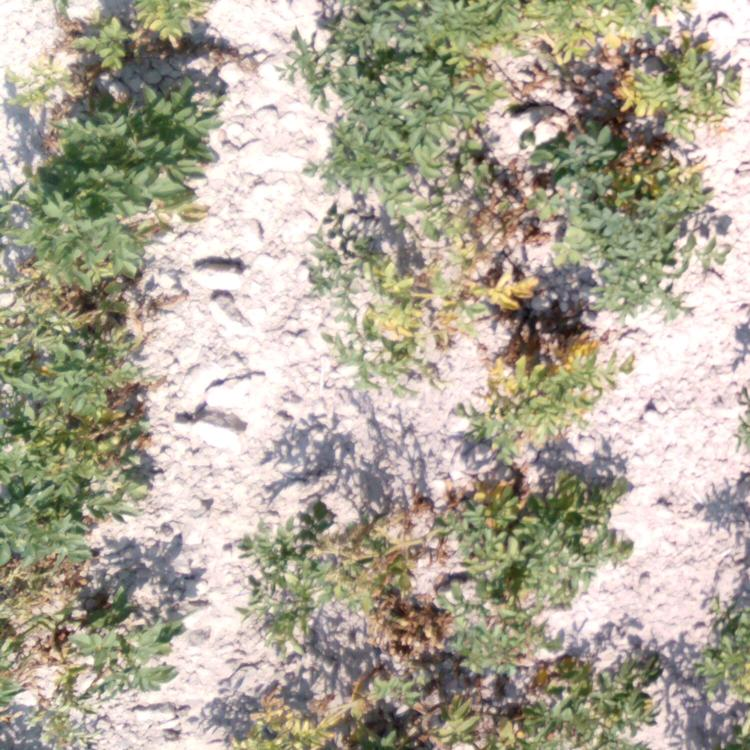healthy: (301, 1, 448, 195), (1, 174, 187, 272), (69, 72, 241, 172), (580, 206, 675, 308), (1, 481, 105, 546)
stressed: (248, 493, 456, 655), (298, 197, 457, 391), (1, 277, 150, 479), (601, 1, 750, 196), (449, 1, 600, 185), (481, 305, 634, 457), (1, 584, 181, 711), (449, 453, 629, 572), (240, 664, 485, 750), (486, 662, 671, 750), (64, 1, 229, 72), (458, 573, 586, 658), (455, 191, 537, 305), (695, 593, 750, 750), (6, 78, 65, 142)
